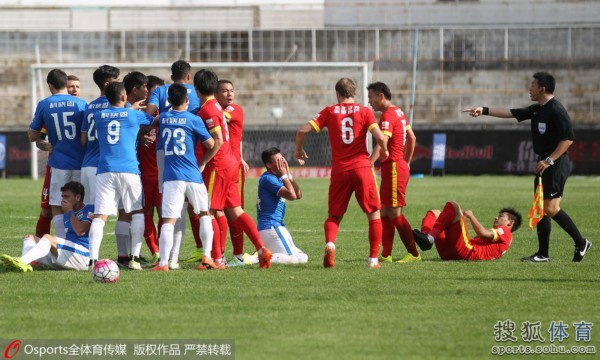fall: (241, 153, 313, 267)
